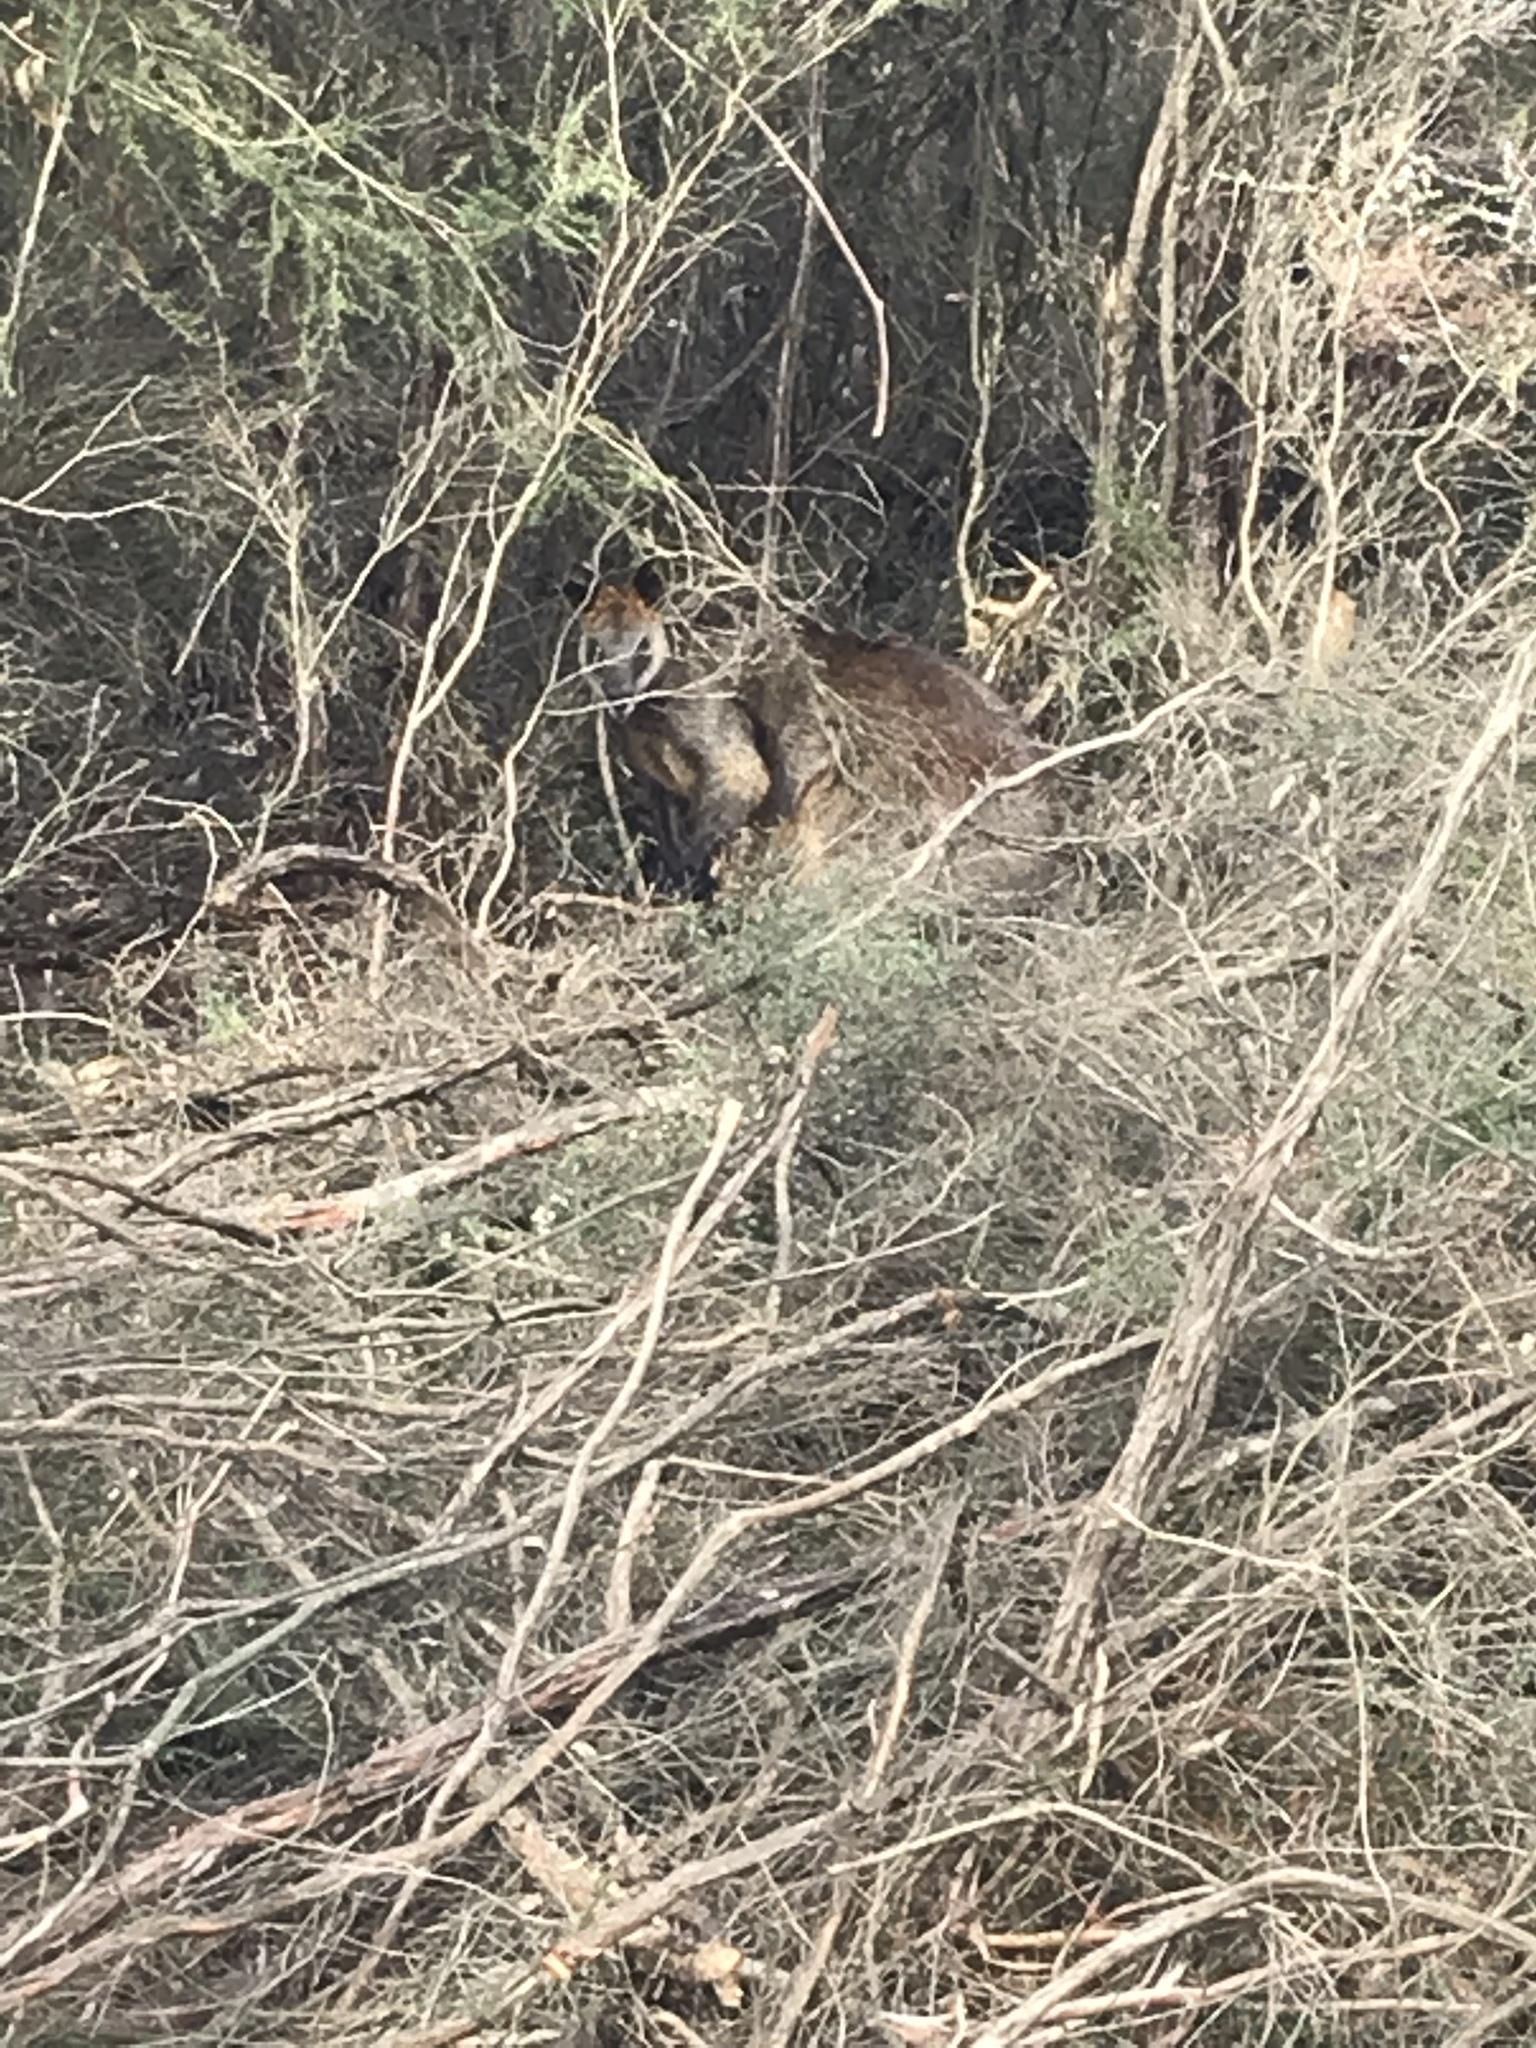Swamp wallaby: (563, 531, 1063, 974)
